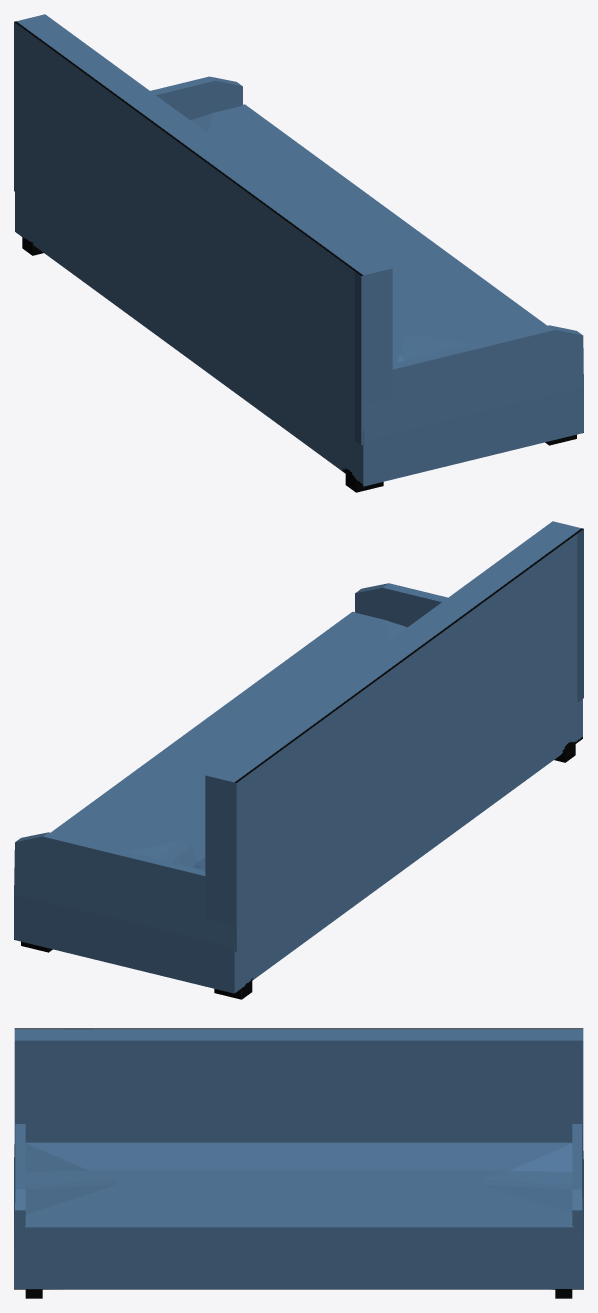
File: Couch.fbx
The picture shows the model from 3 angles, top to bottom: view 1: azimuth 30°, elevation 25°; view 2: azimuth 150°, elevation 25°; view 3: azimuth 270°, elevation 25°; orthographic projection. The views are drawn at different scales.
Visible parts, largest first — view 1: Cube; view 2: Cube; view 3: Cube.
Part boxes in pixels (left/top/right/bottom): Cube: left=14, top=14, right=583, bottom=492; Cube: left=14, top=521, right=583, bottom=999; Cube: left=14, top=1028, right=583, bottom=1298.
Size of the model in its own units: 266 by 250 by 712.
Materials: 1 (1 with a texture image).
